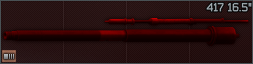HK417 7.62x51 16.5 inch barrel: (0, 0, 253, 64)
